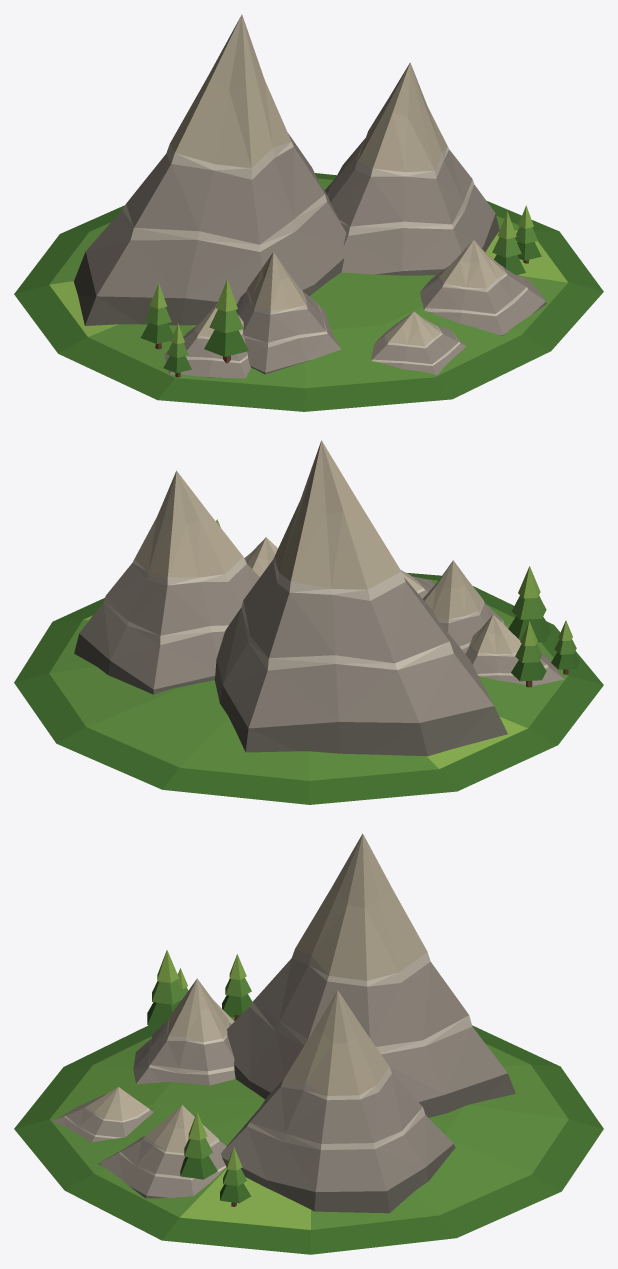
The model's file is mountain_b.glb.
3 renders of one model, top to bottom at view 1: azimuth 30°, elevation 25°; view 2: azimuth 150°, elevation 25°; view 3: azimuth 270°, elevation 25°, orthographic. The views are drawn at different scales.
Parts seen in each view (by area): view 1: mountain_b; view 2: mountain_b; view 3: mountain_b.
Boxes of the visible parts, left/top/right/bottom form: mountain_b: left=14, top=14, right=603, bottom=411; mountain_b: left=14, top=440, right=603, bottom=804; mountain_b: left=14, top=833, right=603, bottom=1254.
Bounding box in the file's own units: 1.77 × 0.91 × 1.76.
